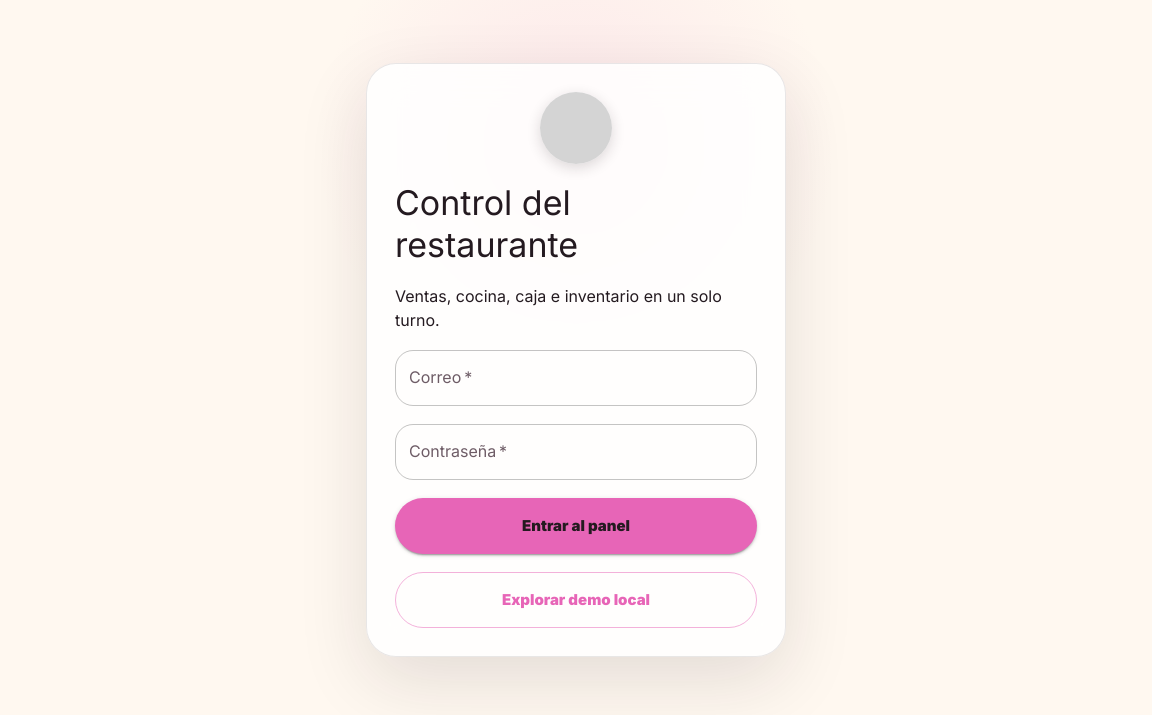
Test case: renders live dashboard metrics after an admin signs in
Type "admin@benditas.local" into the field labelled "Correo *" at (576, 378), box left=395, top=350, right=757, bottom=406
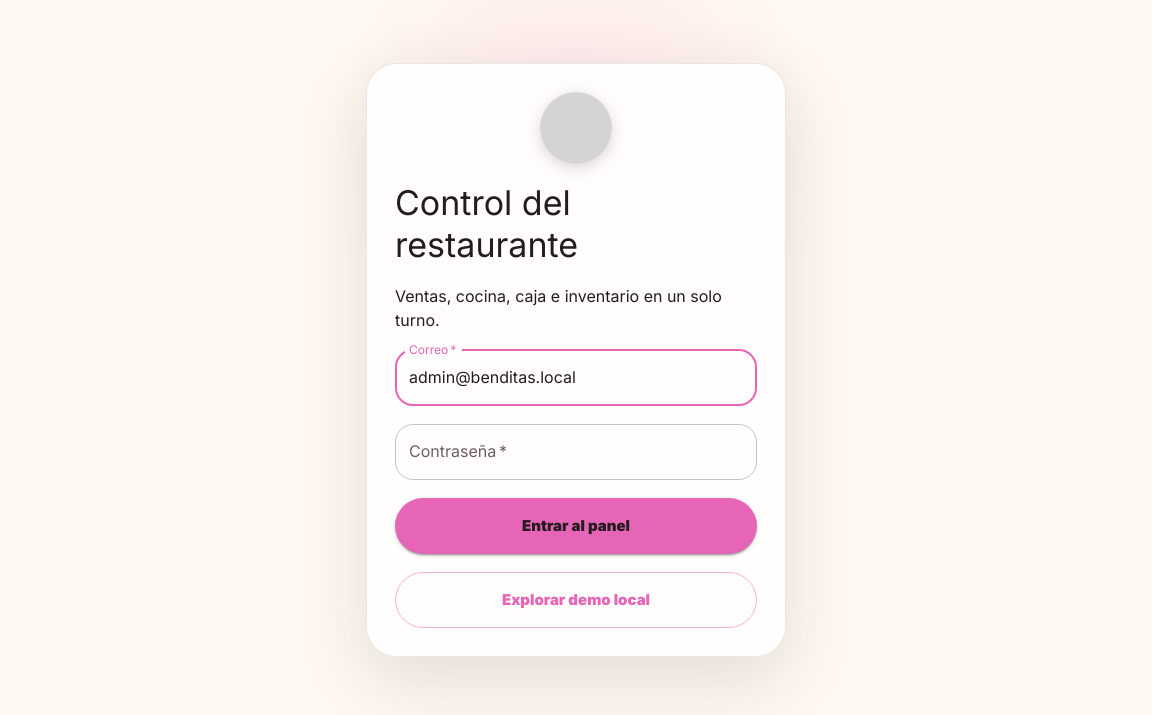
Type "Password123" into the password field labelled "Contraseña *" at (576, 452), box left=395, top=424, right=757, bottom=480
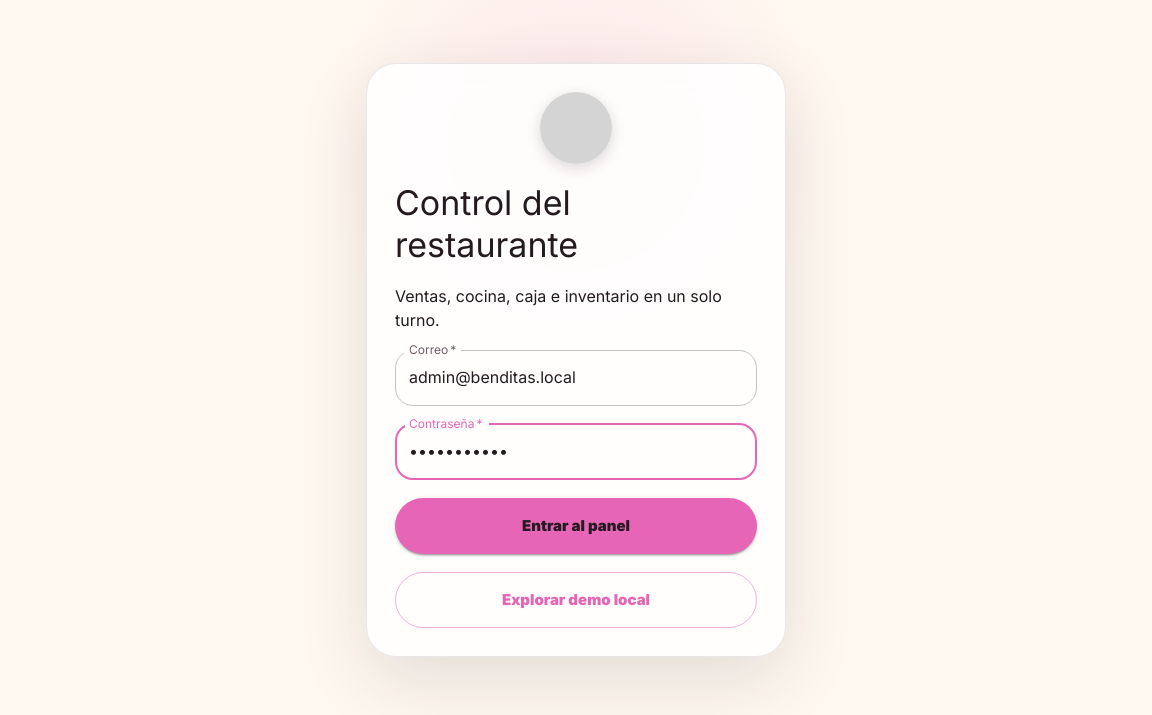
Click the button "Entrar al panel" at (576, 526), box left=395, top=498, right=757, bottom=554
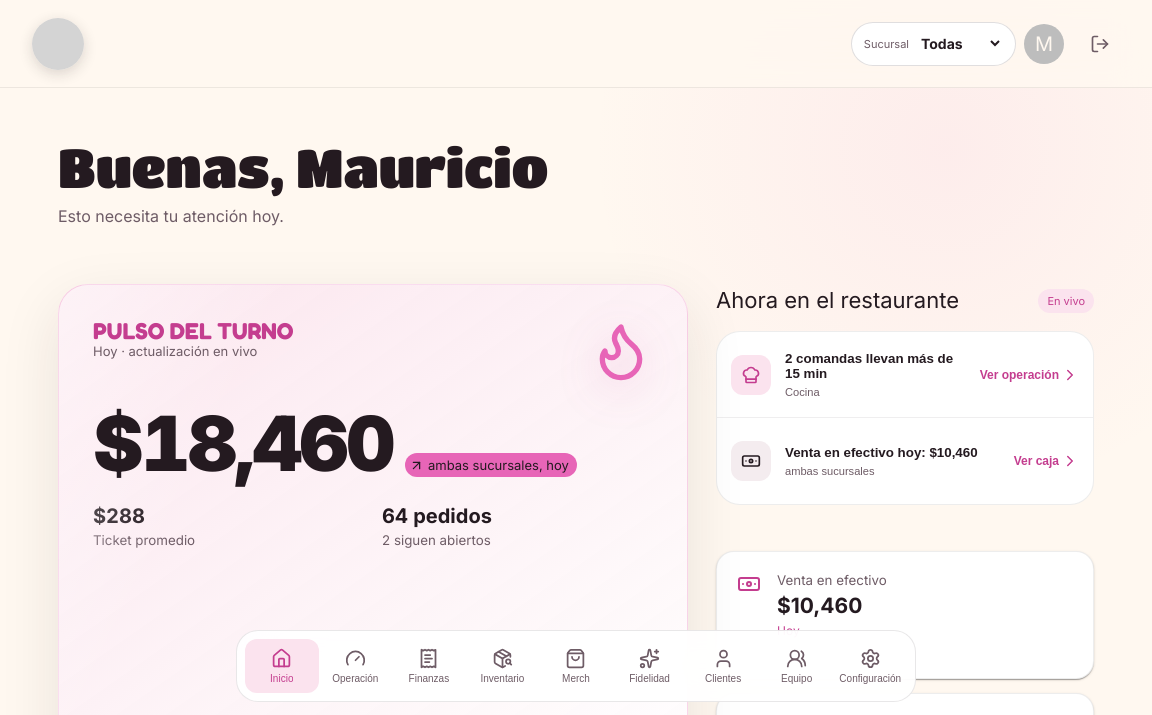
Result: the text "$18,460" is shown at left=93, top=409, right=393, bottom=477
Result: the text "64 pedidos" is shown at left=382, top=504, right=492, bottom=528
Result: the heading "Buenas, Mauricio" is shown at left=58, top=136, right=548, bottom=197
